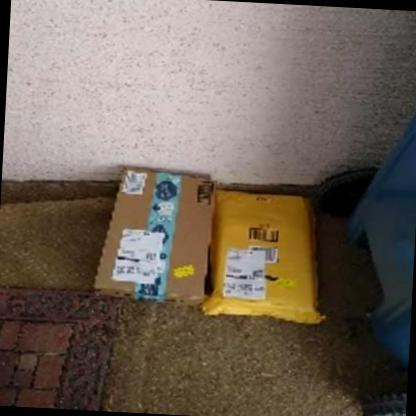box: (93, 166, 217, 301)
envelope: (202, 184, 327, 327)
